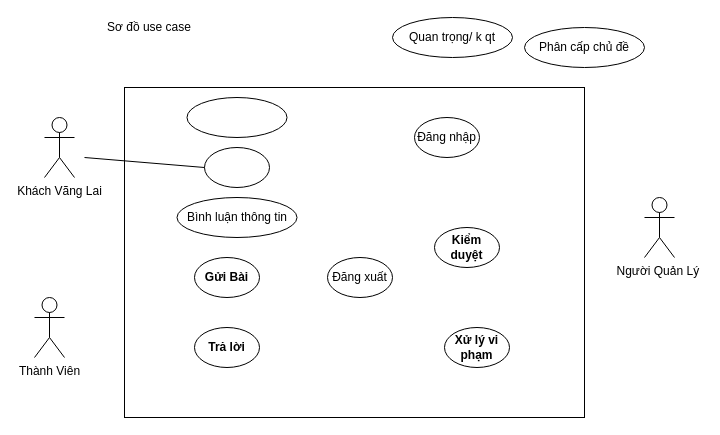
The diagram is 720 pixels wide and 435 high, and some of its shapes have lost their labels. Here are the shapes that lost their labels. From the top down, the box of each, then its label:
(186, 96, 287, 138): Xem thông tin (bài viết)
(204, 146, 270, 188): Đăng ký
